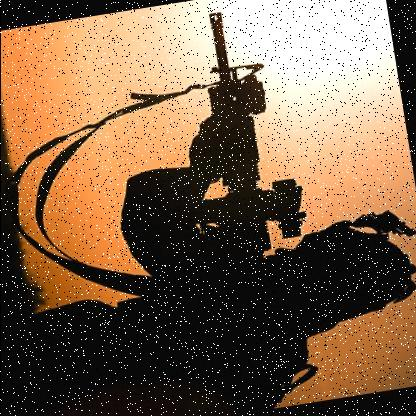rifle: (154, 2, 320, 275)
